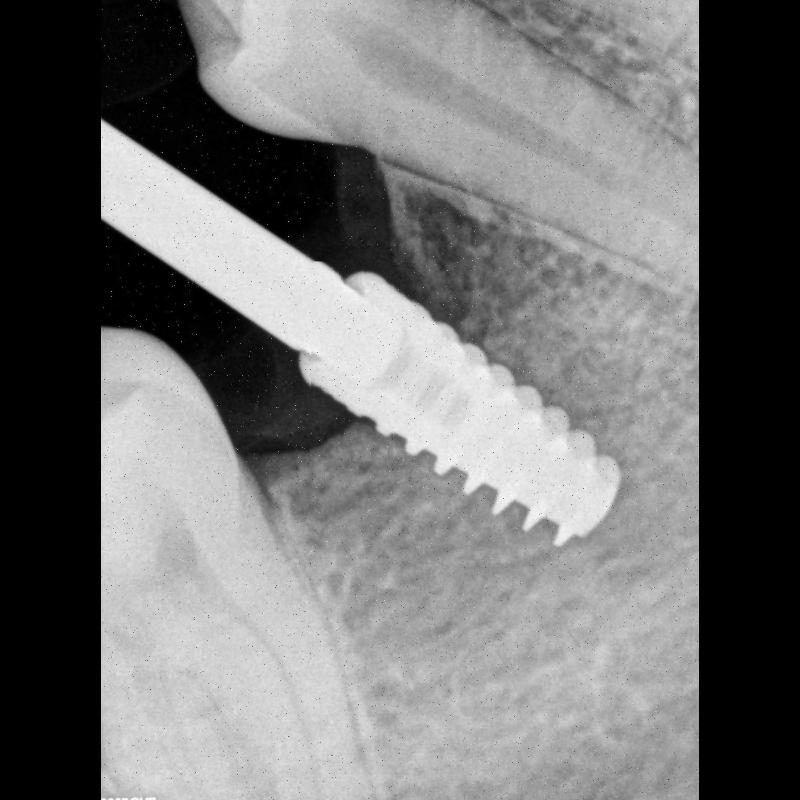ADIN: (310, 264, 626, 546)
